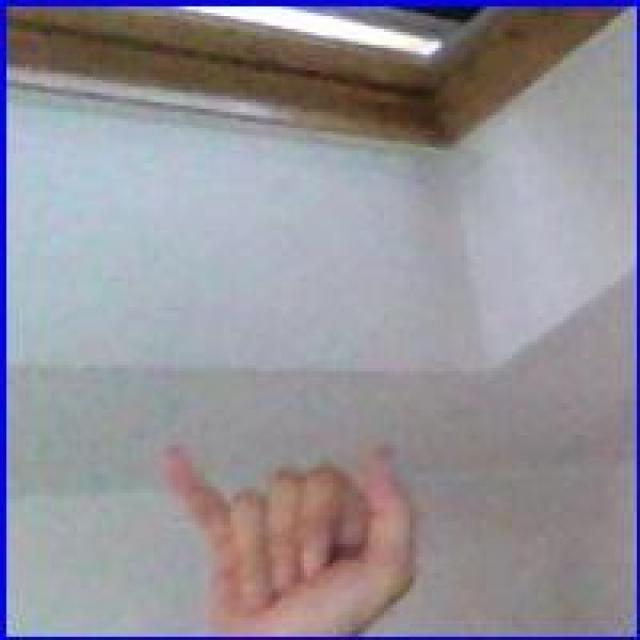Y: (155, 432, 427, 634)
